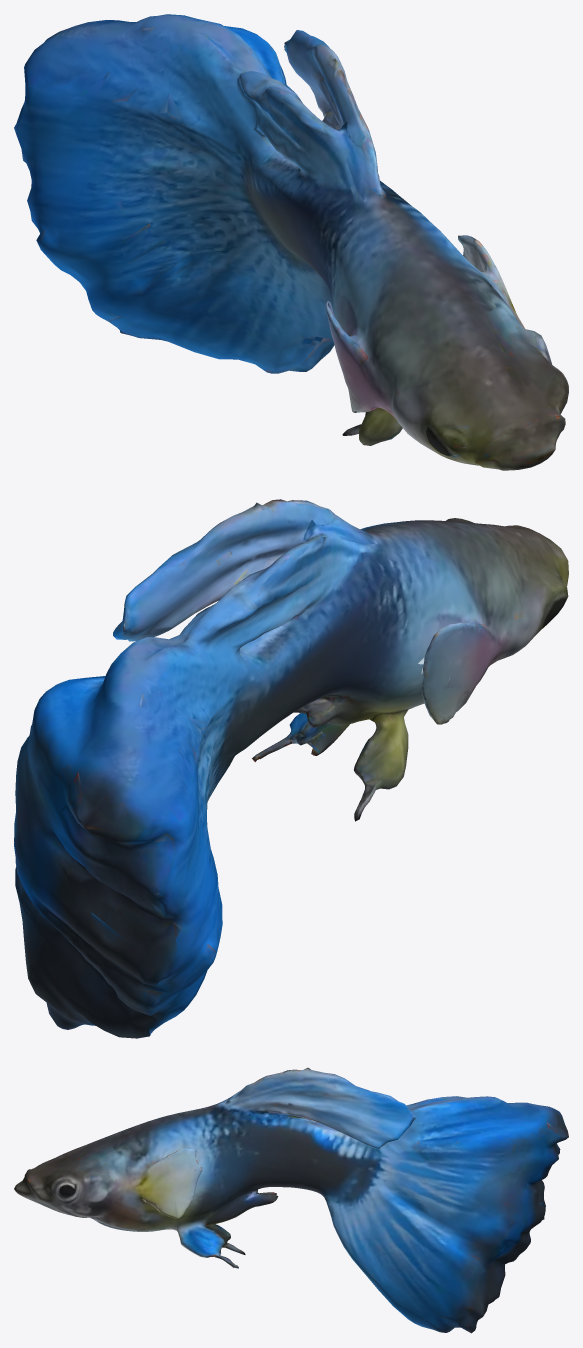
The model's file is strain-tuxedo_blue.glb.
3 renders of one model, top to bottom at view 1: azimuth 30°, elevation 25°; view 2: azimuth 150°, elevation 25°; view 3: azimuth 270°, elevation 25°, orthographic. The views are drawn at different scales.
Parts seen in each view (by area): view 1: Mesh_0.001; view 2: Mesh_0.001; view 3: Mesh_0.001.
Part boxes in pixels (x1,y1,x2,y2): Mesh_0.001: (14, 14, 568, 470); Mesh_0.001: (14, 499, 568, 1038); Mesh_0.001: (14, 1067, 568, 1333).
Bounding box in the file's own units: 0.0105 × 0.0179 × 0.0359.
2 materials, 2 textured.
